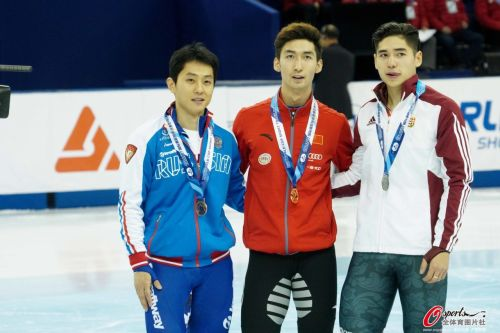wdj: (265, 20, 327, 91)
